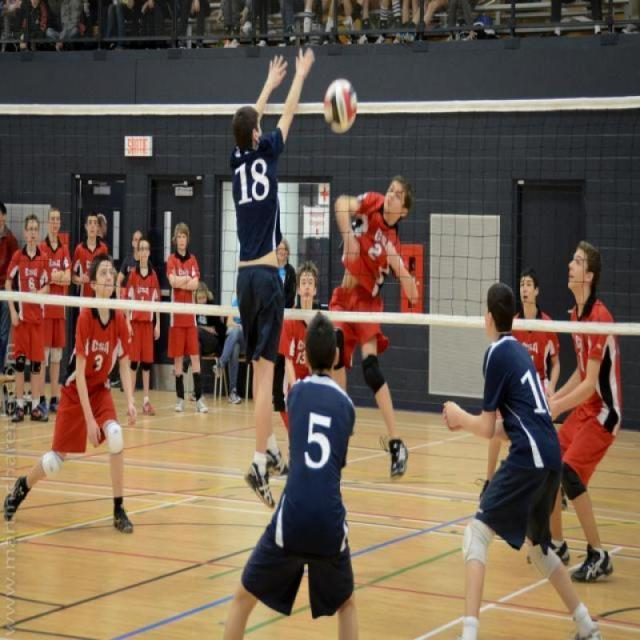volleyball: (322, 76, 357, 135)
